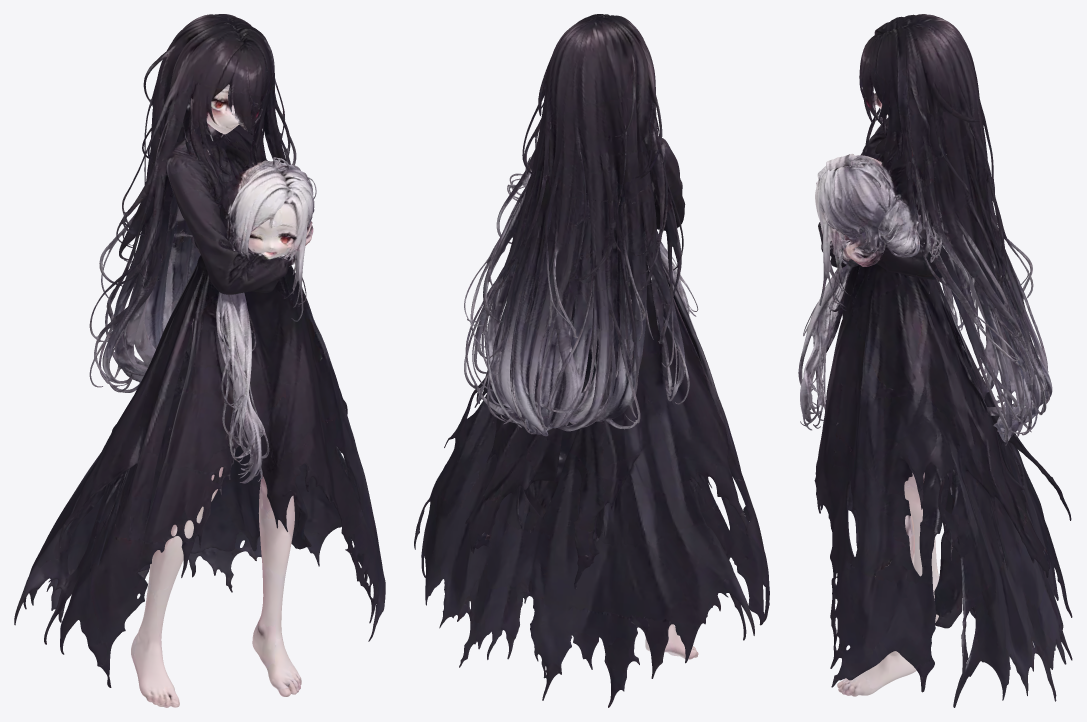
Rendered from nyxaramodel.glb.
3 renders of one model, left to right at view 1: azimuth 30°, elevation 25°; view 2: azimuth 150°, elevation 25°; view 3: azimuth 270°, elevation 25°, orthographic. The views are drawn at different scales.
Parts seen in each view (by area): view 1: mesh_node; view 2: mesh_node; view 3: mesh_node.
Part boxes in pixels (left/top/right/bottom): mesh_node: left=14, top=14, right=385, bottom=707; mesh_node: left=414, top=14, right=769, bottom=707; mesh_node: left=798, top=14, right=1072, bottom=707.
Size of the model in its own units: 1.08 by 1.9 by 0.7182.
1 material, 1 textured.
